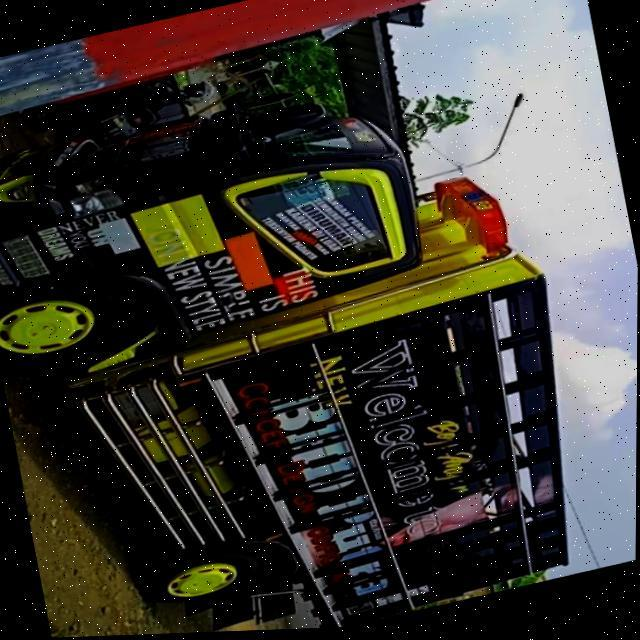truck: (0, 27, 608, 640)
